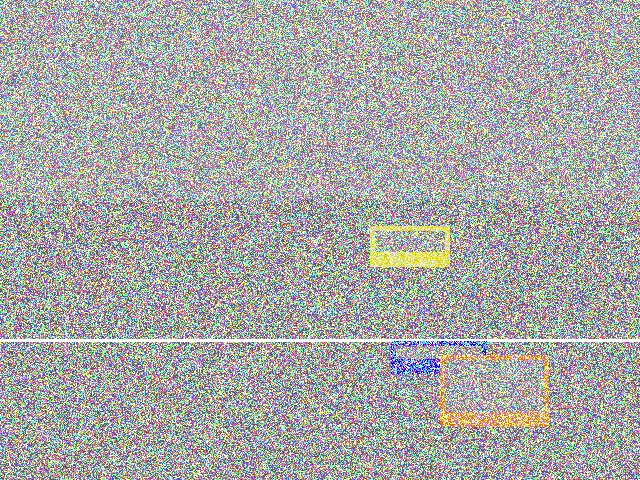car: (271, 79, 380, 214)
